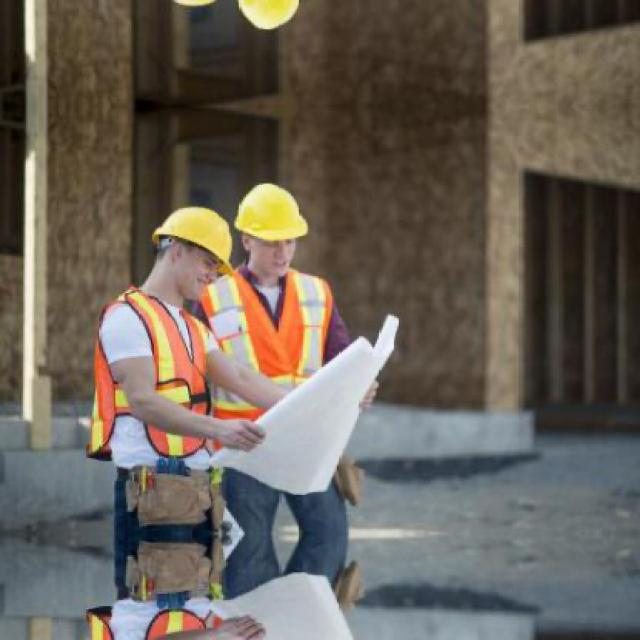con casco: (202, 130, 330, 284), (114, 190, 236, 324)
